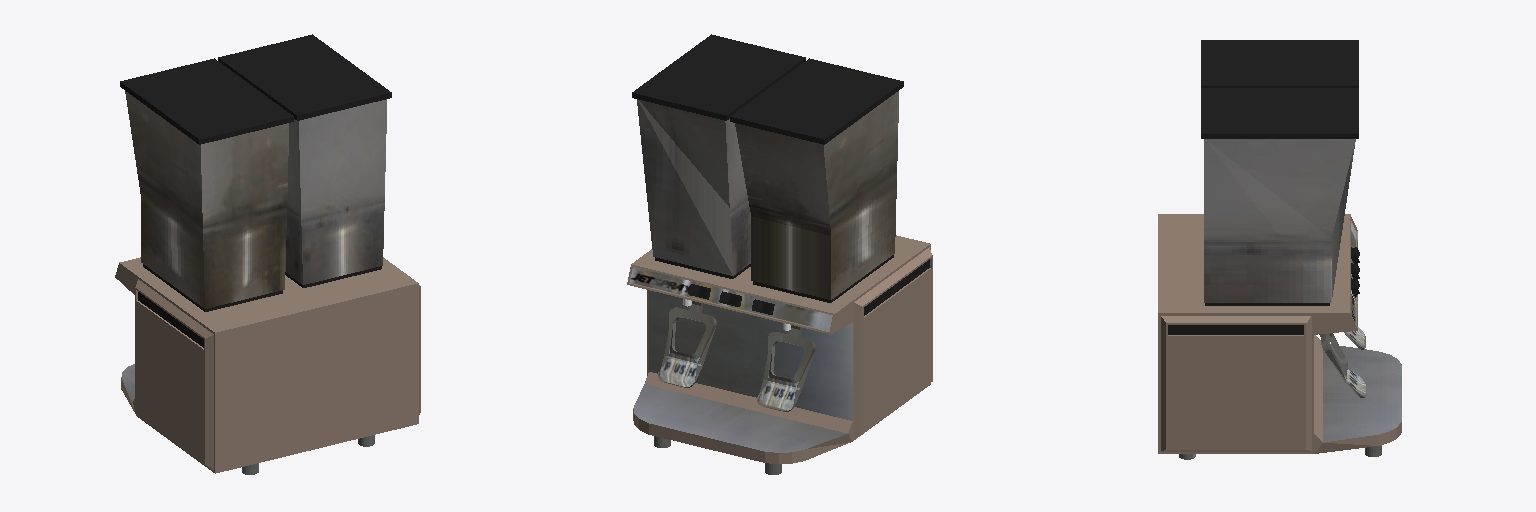
3 views of the same model, side by side, from view 1: azimuth 30°, elevation 25°; view 2: azimuth 150°, elevation 25°; view 3: azimuth 270°, elevation 25° (orthographic).
Parts seen in each view (by area): view 1: drink_machine_WUV.obj; view 2: drink_machine_WUV.obj; view 3: drink_machine_WUV.obj.
Boxes of the visible parts, box(x1,y1,x2,y2) form: drink_machine_WUV.obj: box(115, 34, 420, 474); drink_machine_WUV.obj: box(627, 34, 932, 474); drink_machine_WUV.obj: box(1158, 40, 1401, 459).
Size of the model in its own units: 4.7 by 7.04 by 4.61.
Materials: 1 (1 with a texture image).